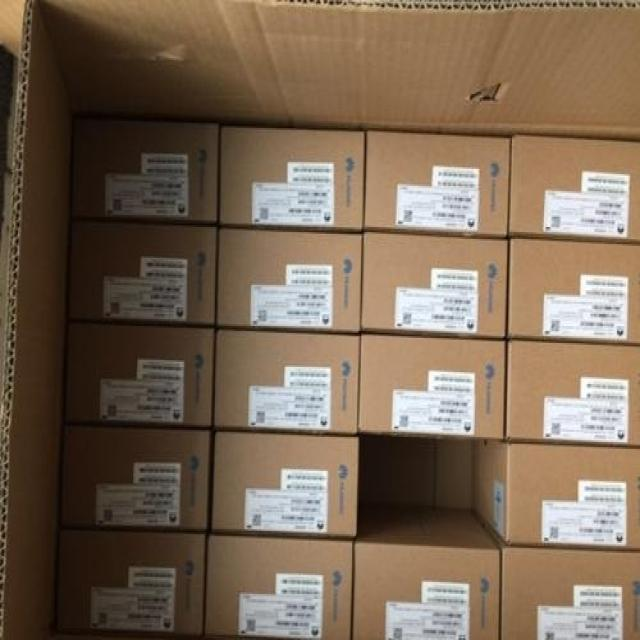box: (352, 502, 502, 640), (470, 439, 640, 551), (60, 423, 214, 531), (64, 321, 215, 428), (204, 534, 356, 640), (362, 230, 508, 340), (357, 333, 507, 440), (212, 328, 361, 435), (68, 218, 218, 324), (56, 529, 206, 635), (72, 114, 219, 222), (216, 225, 362, 333), (211, 432, 358, 538), (365, 130, 511, 236), (219, 125, 364, 229), (506, 340, 640, 449), (508, 236, 640, 345), (509, 137, 640, 241), (499, 544, 640, 640)
